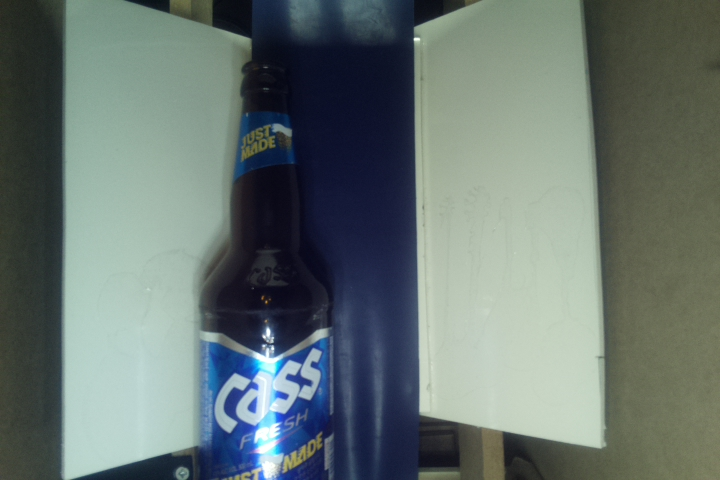makju: (198, 60, 340, 480)
